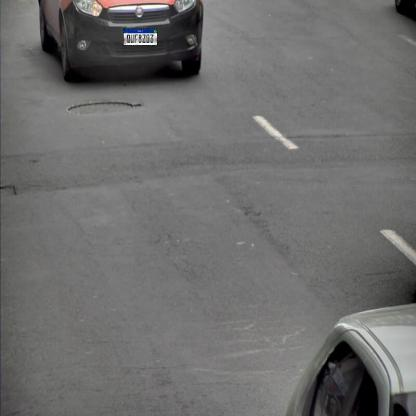PlacaM: (123, 28, 158, 46)
